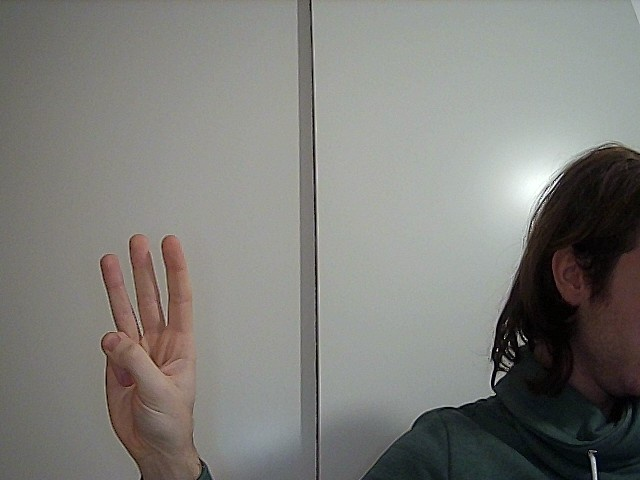w: (84, 220, 208, 458)
